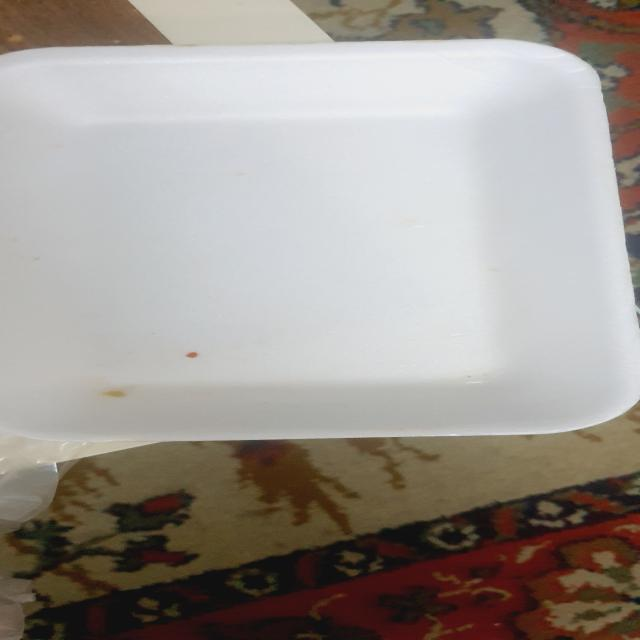cardboard: (3, 37, 637, 442)
